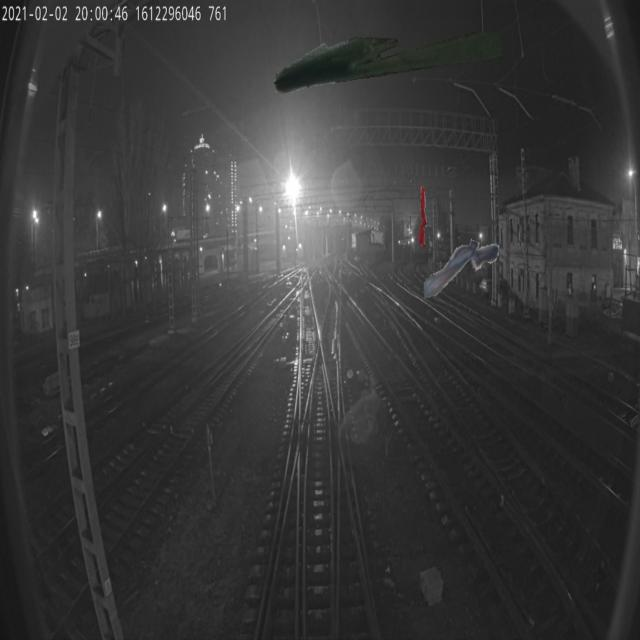floating object: (274, 32, 501, 96), (424, 234, 500, 298), (418, 185, 427, 249)
